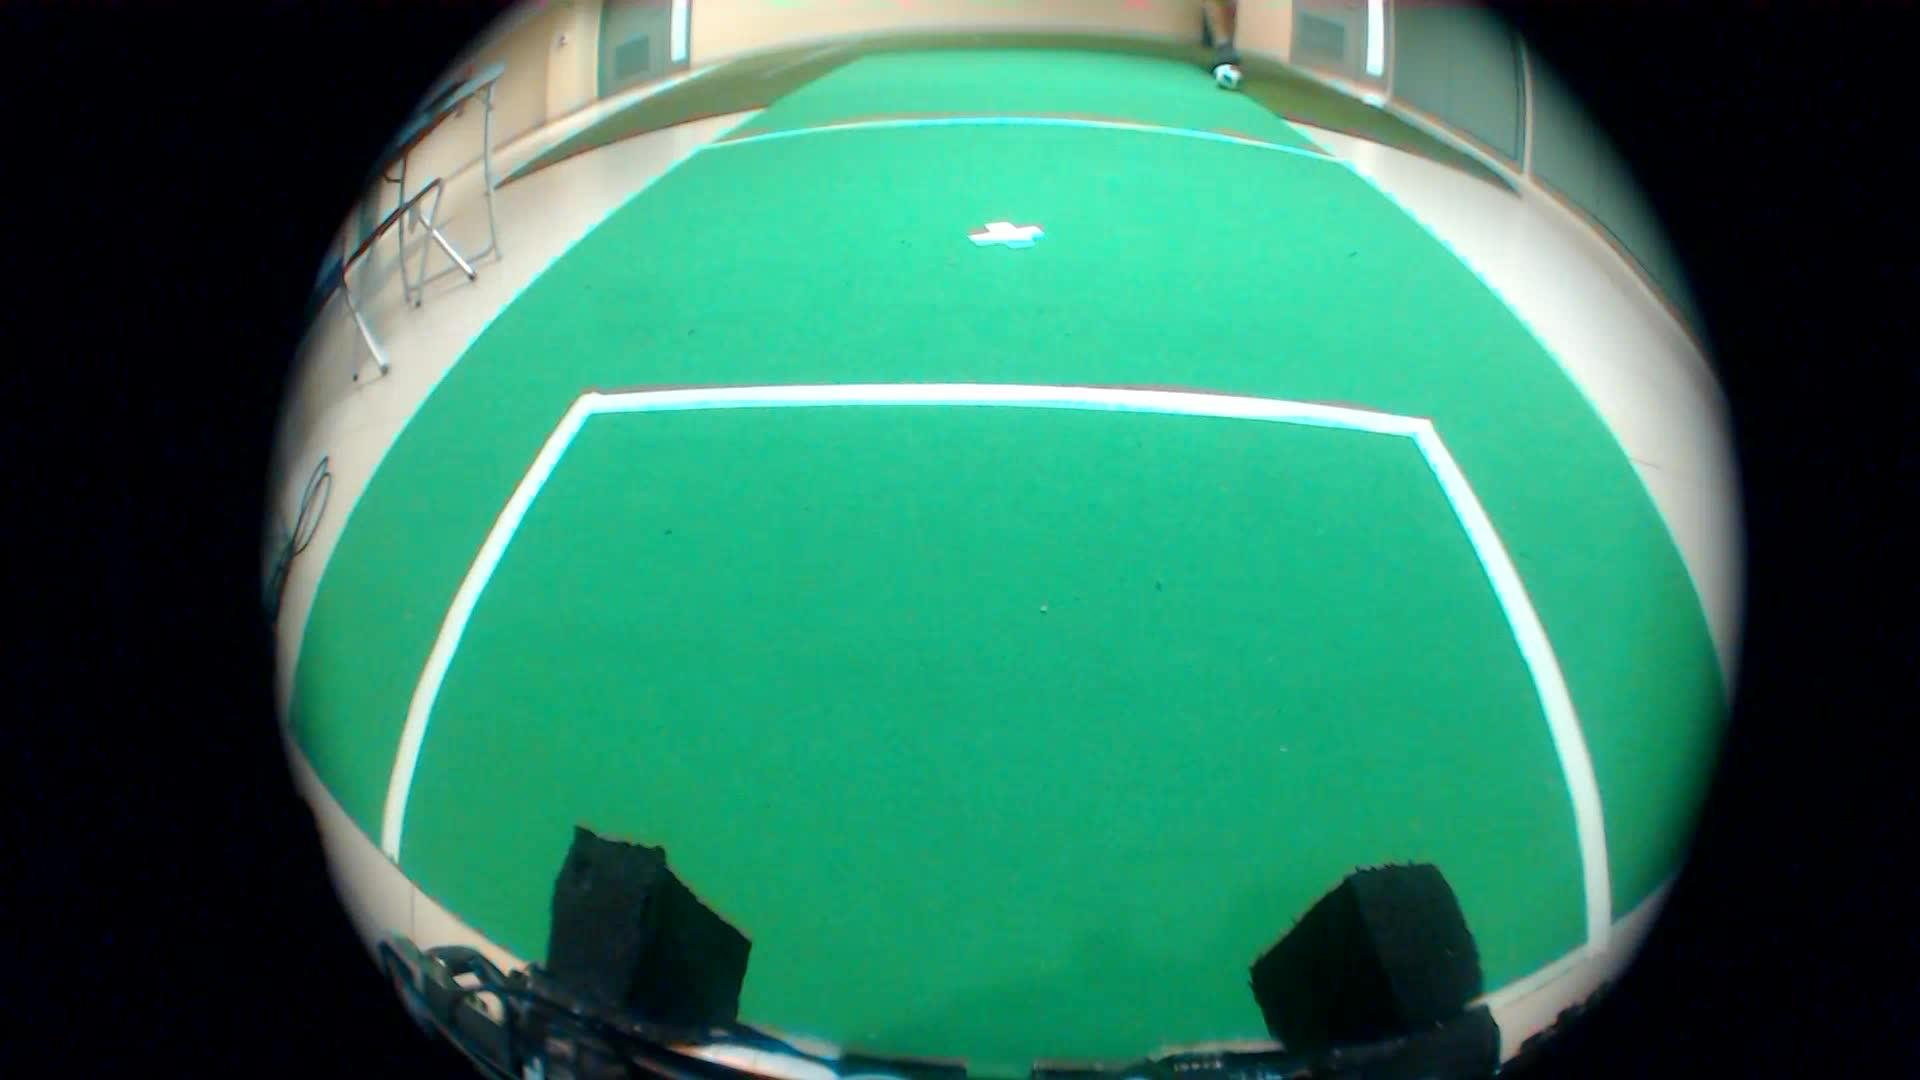ball: (1209, 55, 1247, 100)
